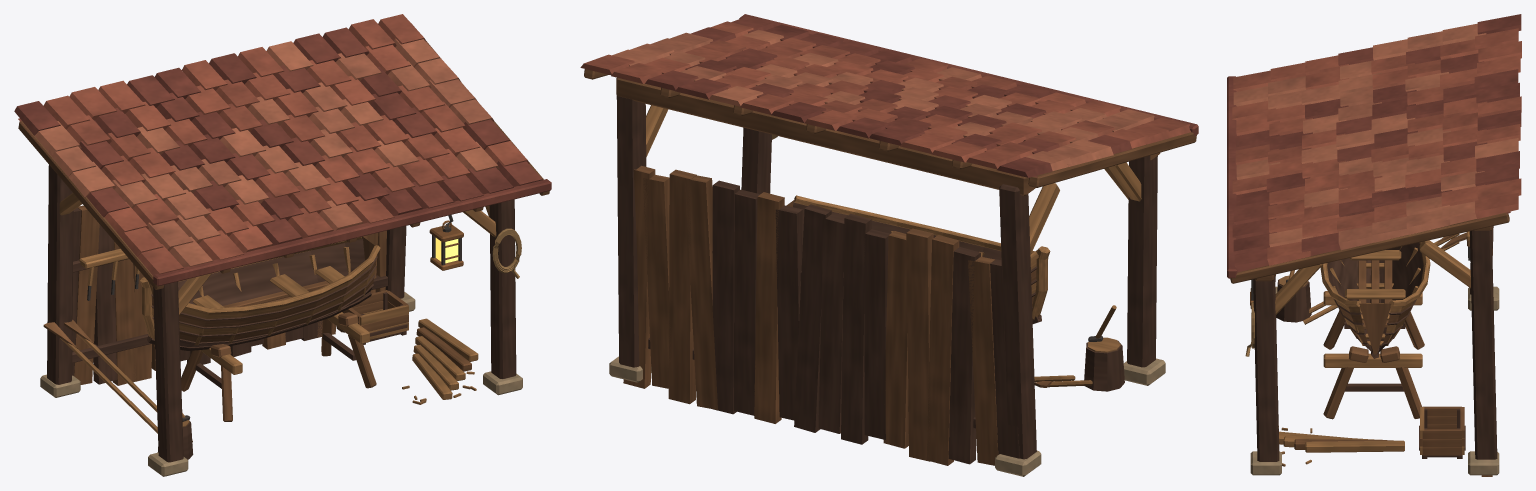
The model's file is ithaca_workshop.glb.
3 views of the same model, side by side, from view 1: azimuth 30°, elevation 25°; view 2: azimuth 150°, elevation 25°; view 3: azimuth 270°, elevation 25° (orthographic). The views are drawn at different scales.
Parts seen in each view (by area): view 1: Ithaca | Workshop; view 2: Ithaca | Workshop; view 3: Ithaca | Workshop.
Part boxes in pixels (x1,y1,x2,y2): Ithaca | Workshop: [14, 14, 551, 476]; Ithaca | Workshop: [580, 14, 1198, 476]; Ithaca | Workshop: [1227, 14, 1521, 476].
Bounding box in the file's own units: 5.12 × 3.55 × 3.28.
Materials: 6 (5 with a texture image).
